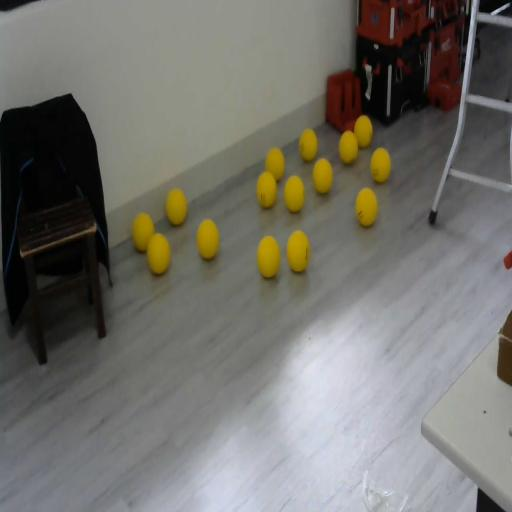FUEL: (256, 234, 281, 279), (146, 231, 171, 275), (286, 229, 310, 272), (196, 218, 220, 260), (164, 187, 188, 227), (354, 188, 378, 227), (132, 212, 154, 252), (256, 170, 277, 209), (284, 175, 305, 213), (370, 147, 392, 183), (312, 157, 332, 194), (265, 146, 285, 180), (338, 130, 358, 164), (298, 128, 318, 161), (354, 114, 373, 148)
